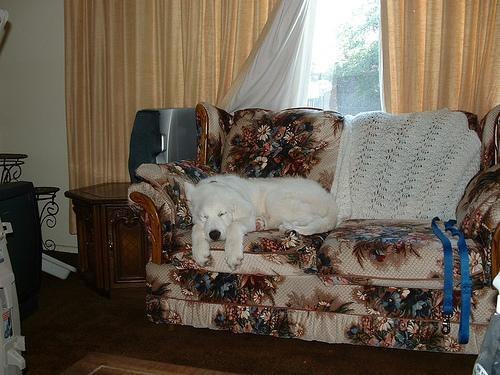Great_Pyrenees: (185, 173, 340, 270)
